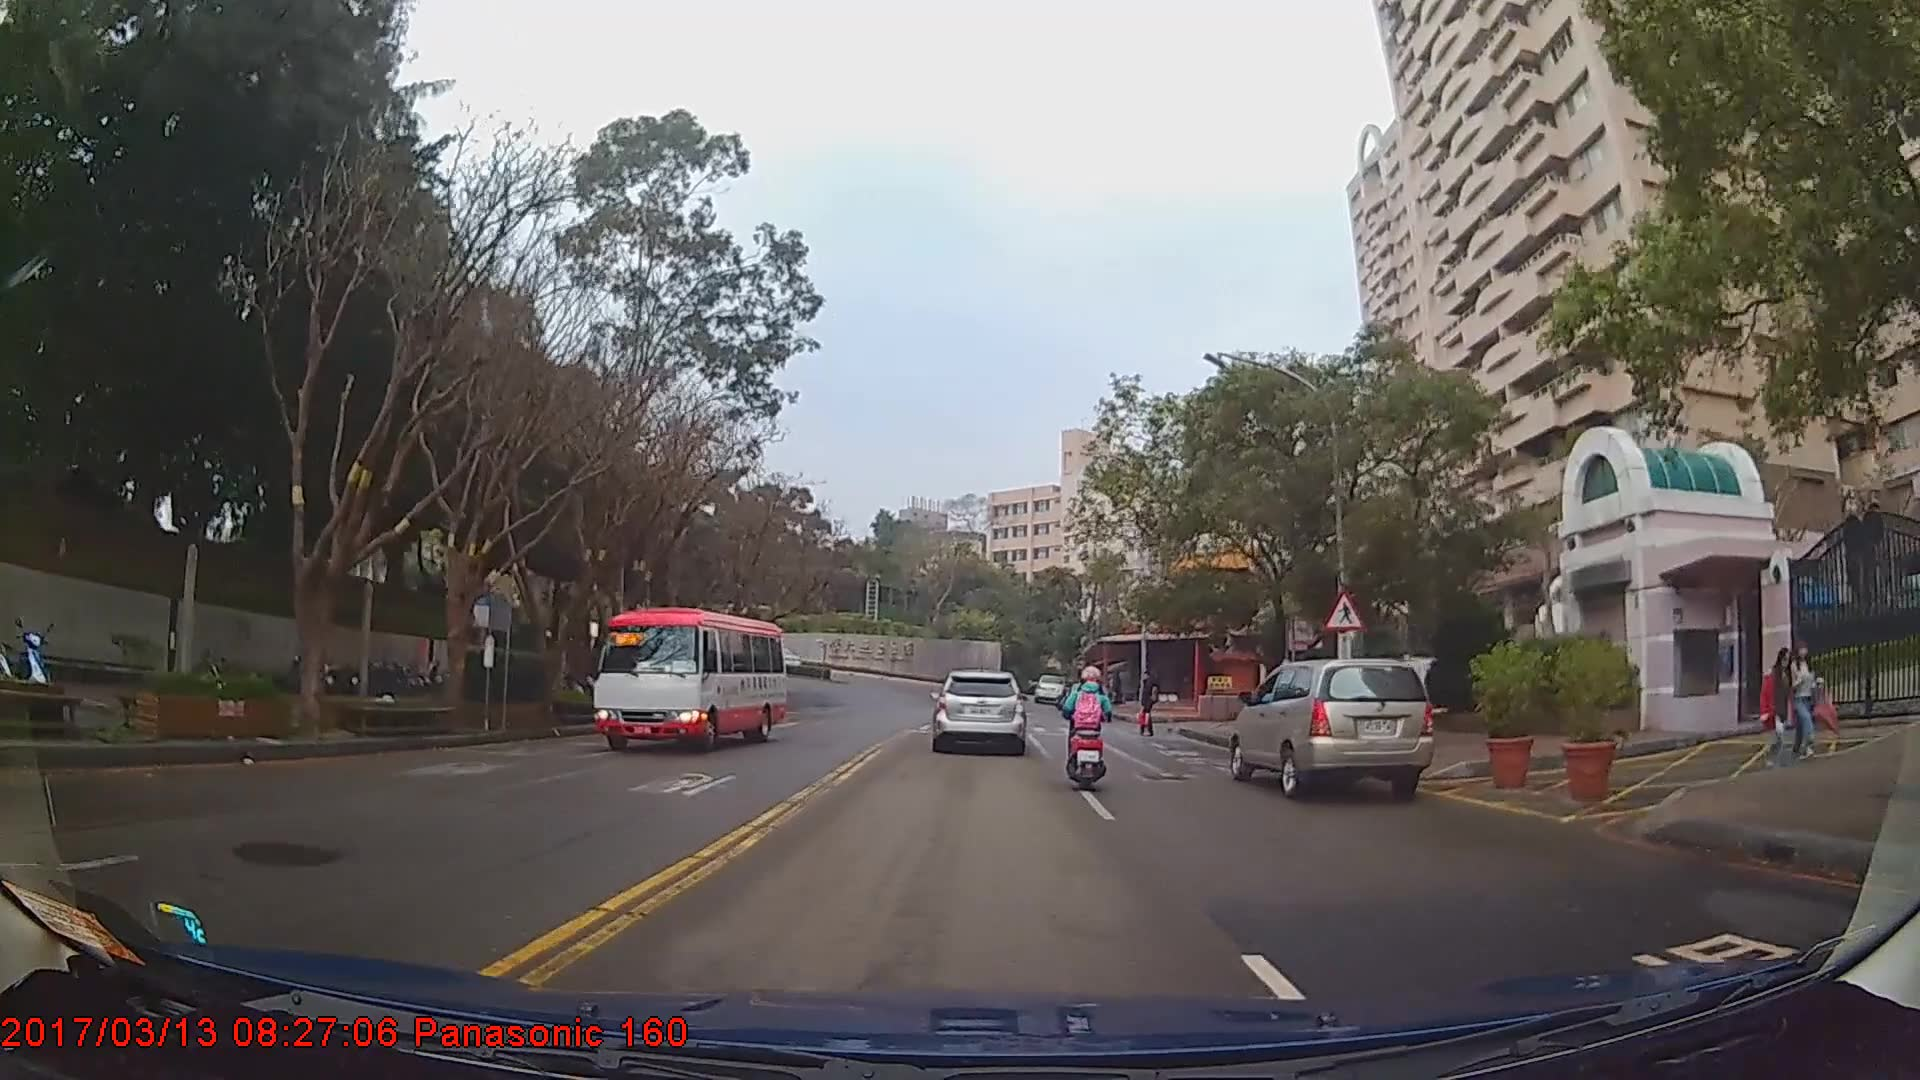pedestrian: (1754, 636, 1803, 783), (1787, 625, 1828, 772), (1136, 669, 1162, 741)
rider: (1062, 664, 1117, 793)
vehicle: (1228, 657, 1433, 800), (589, 606, 787, 752), (929, 668, 1026, 755), (1032, 674, 1066, 702)
